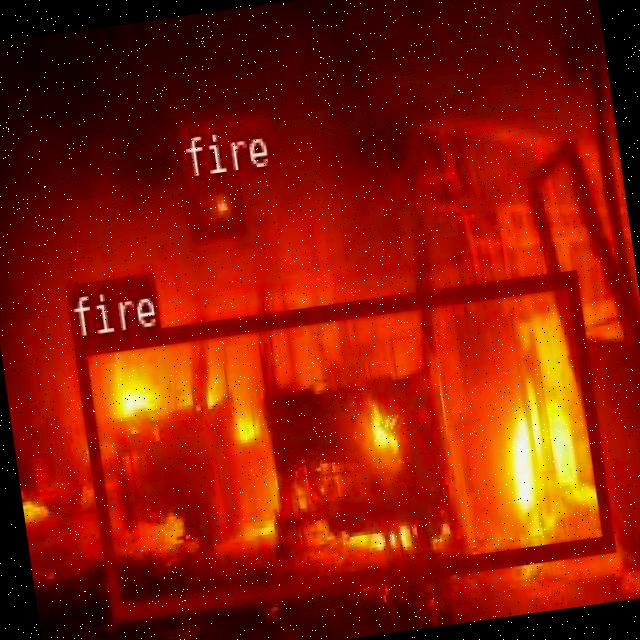fire: (73, 268, 612, 619), (184, 172, 243, 236)
